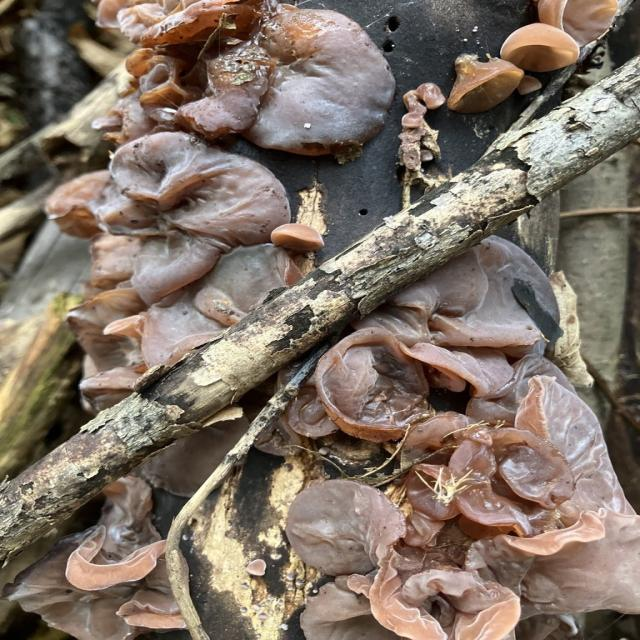Matang: (47, 0, 624, 640)
